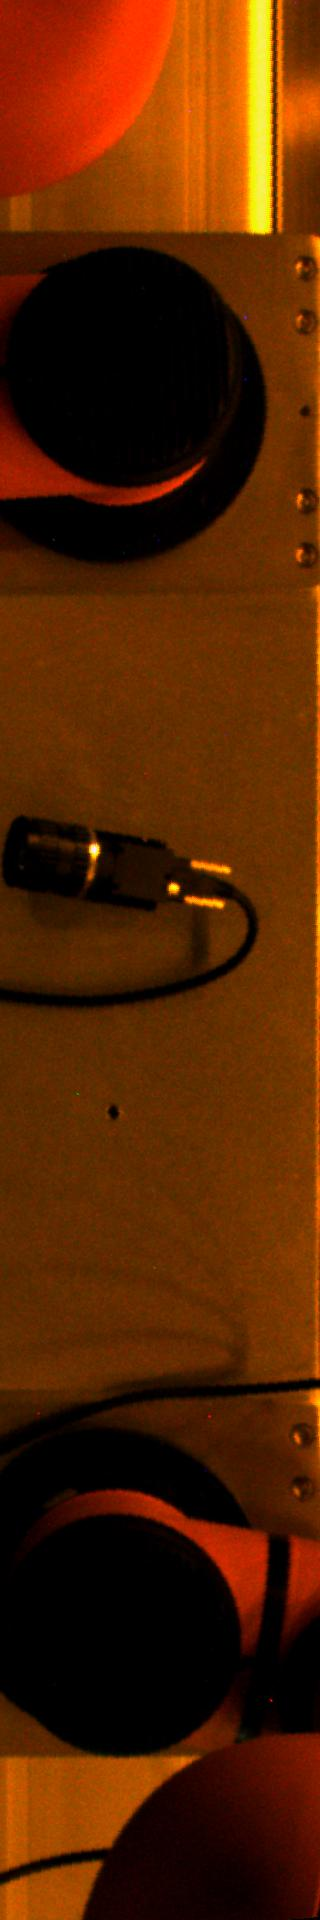keyPoint_2: (97, 1096, 128, 1127)
